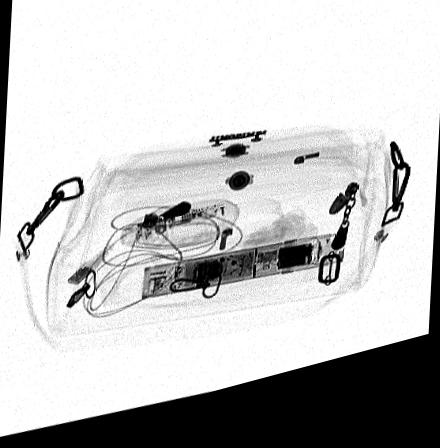Baton: (141, 247, 346, 306)
